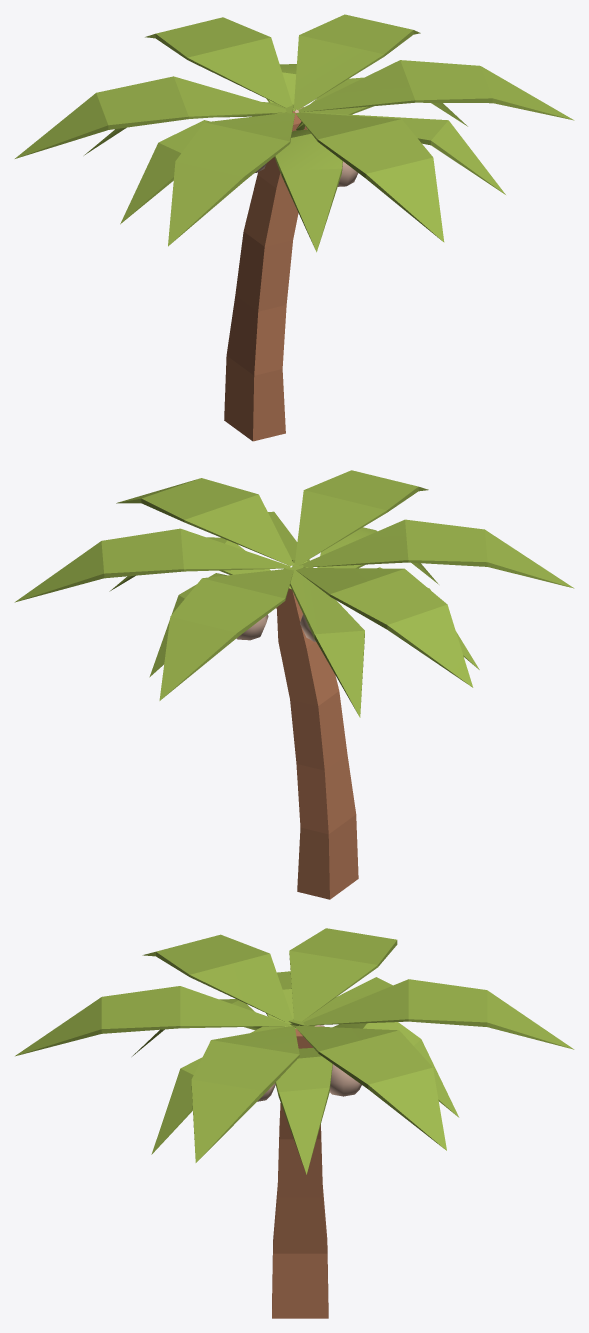
Rendered from Palm Tree.obj.
The picture shows the model from 3 angles, top to bottom: view 1: azimuth 30°, elevation 25°; view 2: azimuth 150°, elevation 25°; view 3: azimuth 270°, elevation 25°; orthographic projection.
Parts seen in each view (by area): view 1: Regroup00, Regroup01; view 2: Regroup00, Regroup01, Regroup02; view 3: Regroup00, Regroup01, Regroup02.
Part boxes in pixels (<box>): Regroup00: <box>15,14,574,252</box>; Regroup01: <box>224,111,307,441</box>; Regroup00: <box>14,470,574,717</box>; Regroup01: <box>276,588,358,899</box>; Regroup02: <box>236,608,315,641</box>; Regroup00: <box>15,928,574,1174</box>; Regroup01: <box>272,1029,328,1318</box>; Regroup02: <box>257,1025,361,1101</box>.
Size of the model in its own units: 83.62 by 57.59 by 89.86.
